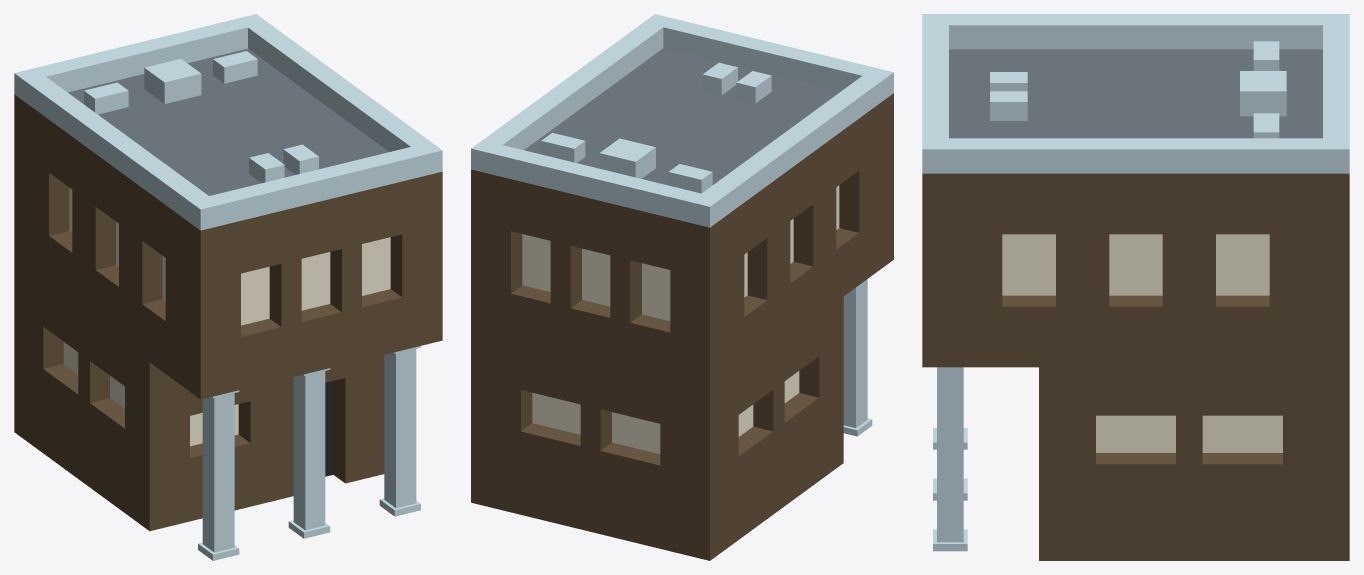
Rendered from Building_7_Extra (Brown).obj.
3 views of the same model, side by side, from view 1: azimuth 30°, elevation 25°; view 2: azimuth 150°, elevation 25°; view 3: azimuth 270°, elevation 25° (orthographic). The views are drawn at different scales.
Parts seen in each view (by area): view 1: Building_7_Extra_(Brown); view 2: Building_7_Extra_(Brown); view 3: Building_7_Extra_(Brown).
Boxes of the visible parts, bbox=[...] form: Building_7_Extra_(Brown): bbox=[14, 14, 442, 560]; Building_7_Extra_(Brown): bbox=[471, 14, 893, 560]; Building_7_Extra_(Brown): bbox=[922, 14, 1349, 560].
Size of the model in its own units: 1.2 by 1.7 by 1.6.
